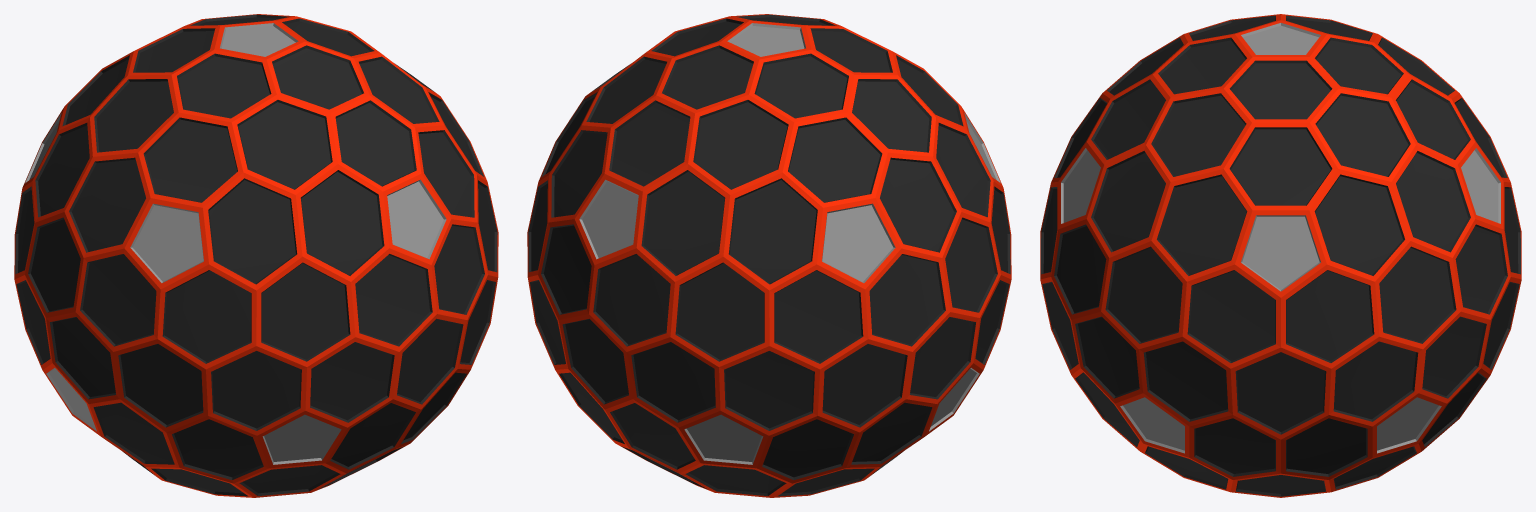
File: HexSphere.FBX
The picture shows the model from 3 angles, left to right: view 1: azimuth 30°, elevation 25°; view 2: azimuth 150°, elevation 25°; view 3: azimuth 270°, elevation 25°; orthographic projection.
Visible parts, largest first — view 1: GeoSphere001; view 2: GeoSphere001; view 3: GeoSphere001.
Part boxes in pixels (<box>): GeoSphere001: <box>14,14,498,497</box>; GeoSphere001: <box>527,14,1011,497</box>; GeoSphere001: <box>1040,14,1521,497</box>.
Size of the model in its own units: 194 by 191 by 194.
